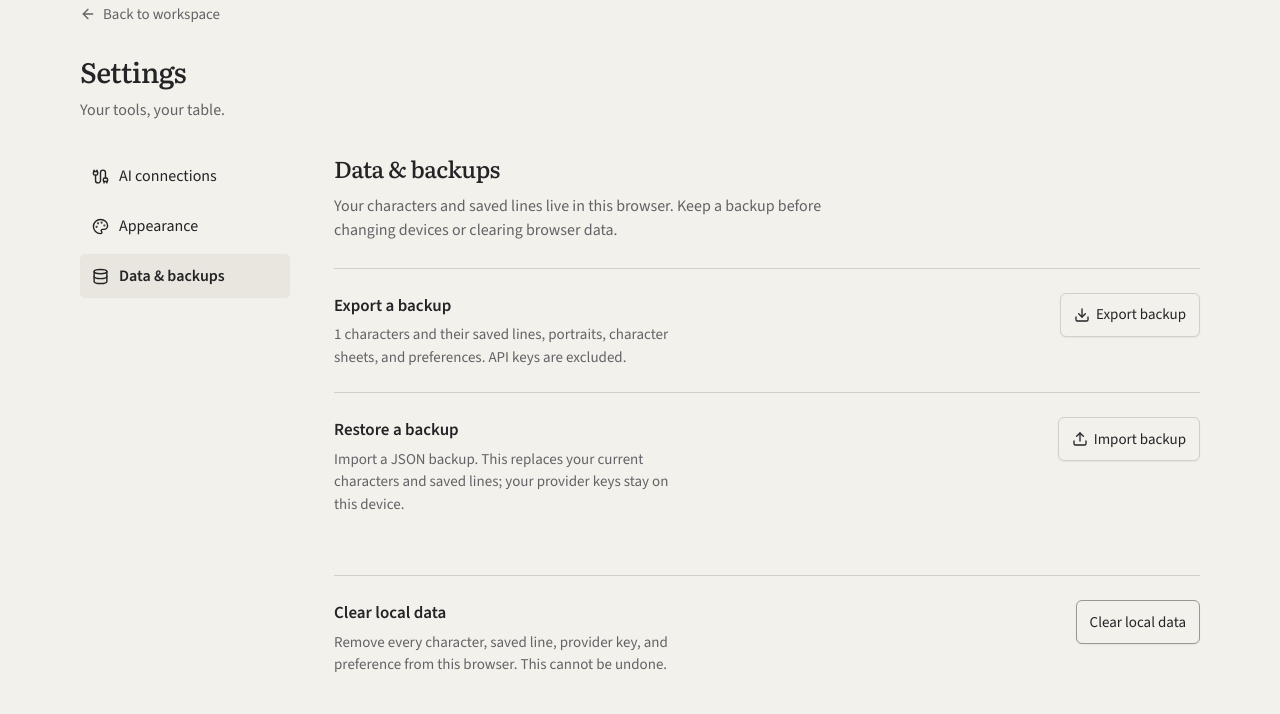
Test: confirms clearing all data and handles a failed clear
Step 1. Click the button "Clear local data" → (1138, 622), box [1076,600,1200,644]
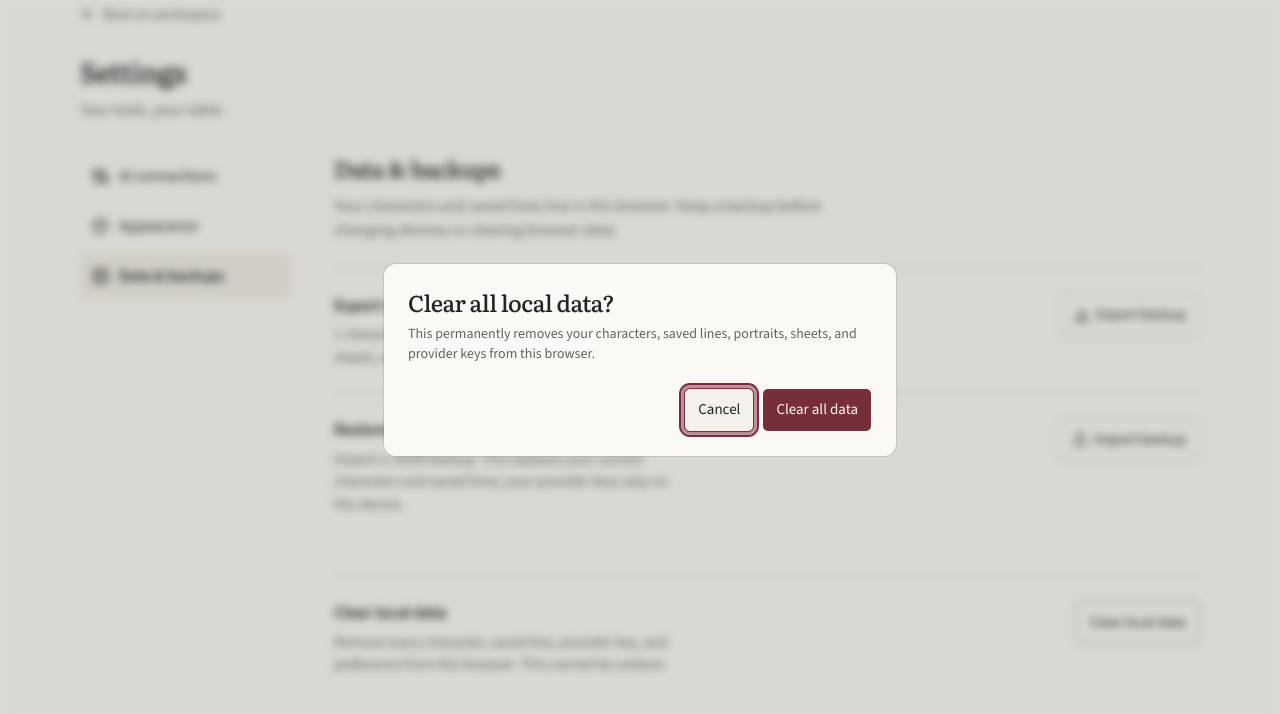
Step 2. Click the button "Clear all data" → (817, 410), box [762,388,872,432]
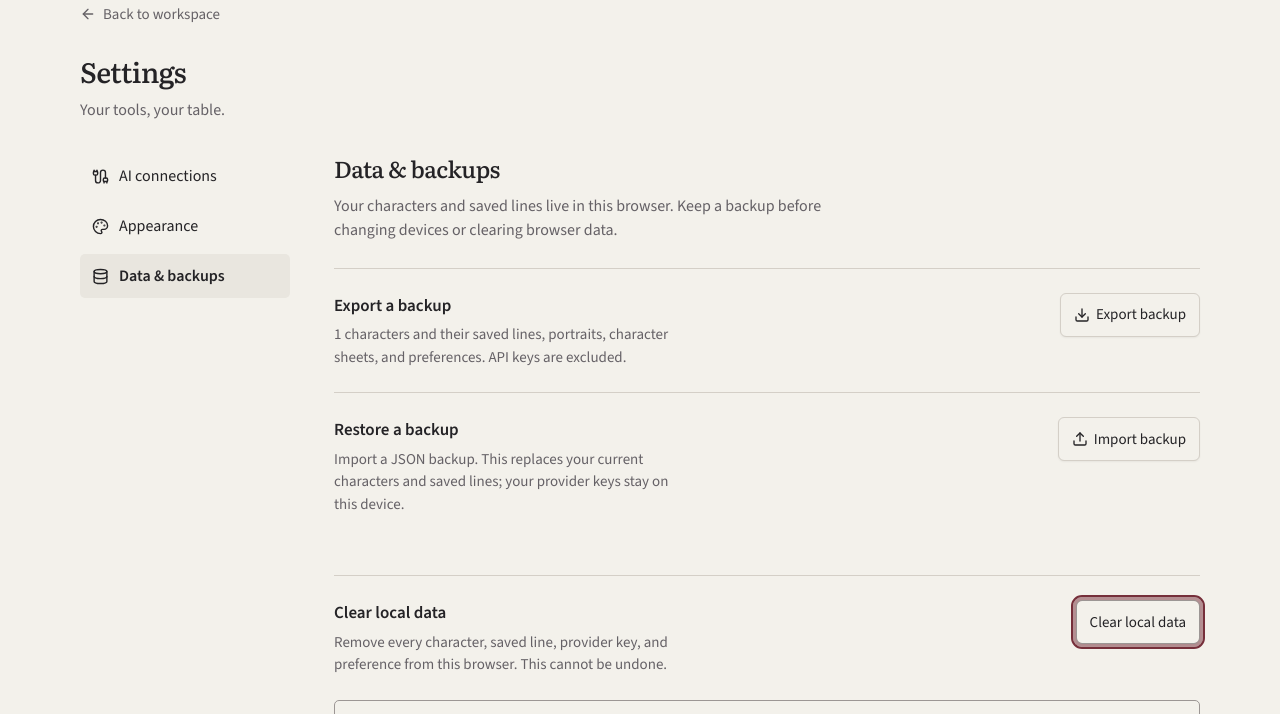
Step 3. Click the button "Clear local data" → (1138, 622), box [1076,600,1200,644]
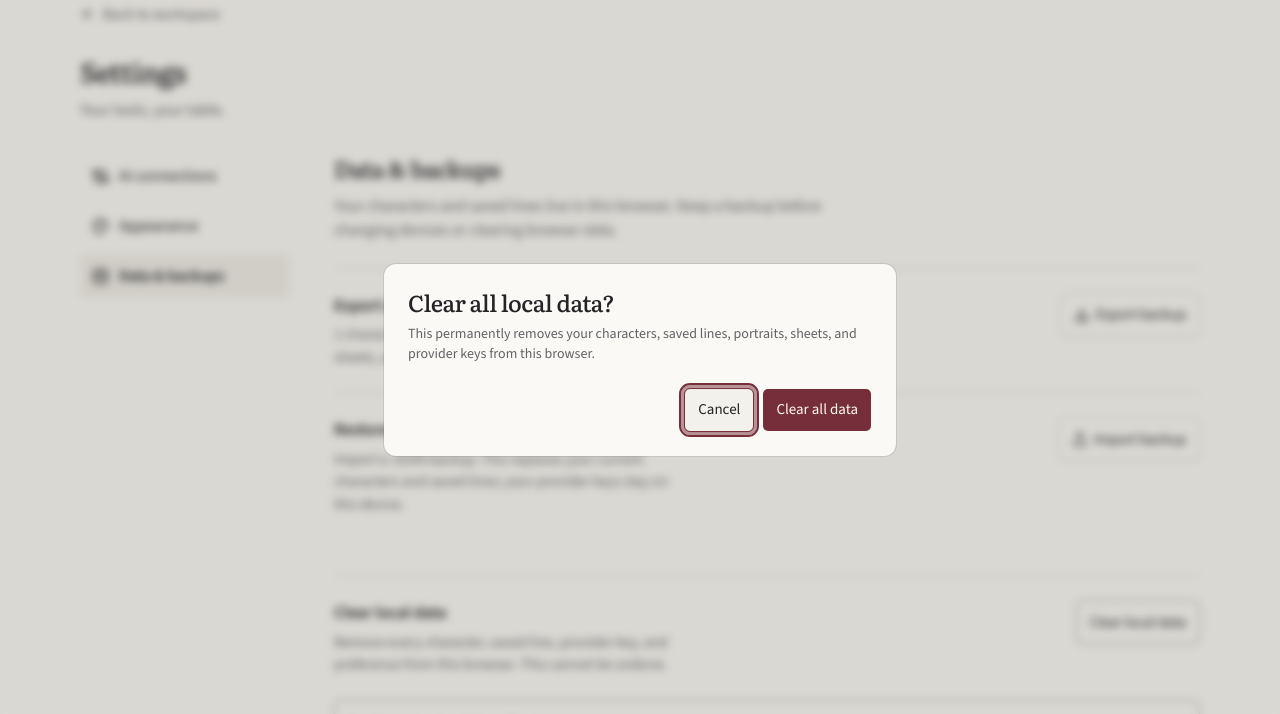
Step 4. Click the button "Clear all data" → (817, 410), box [762,388,872,432]
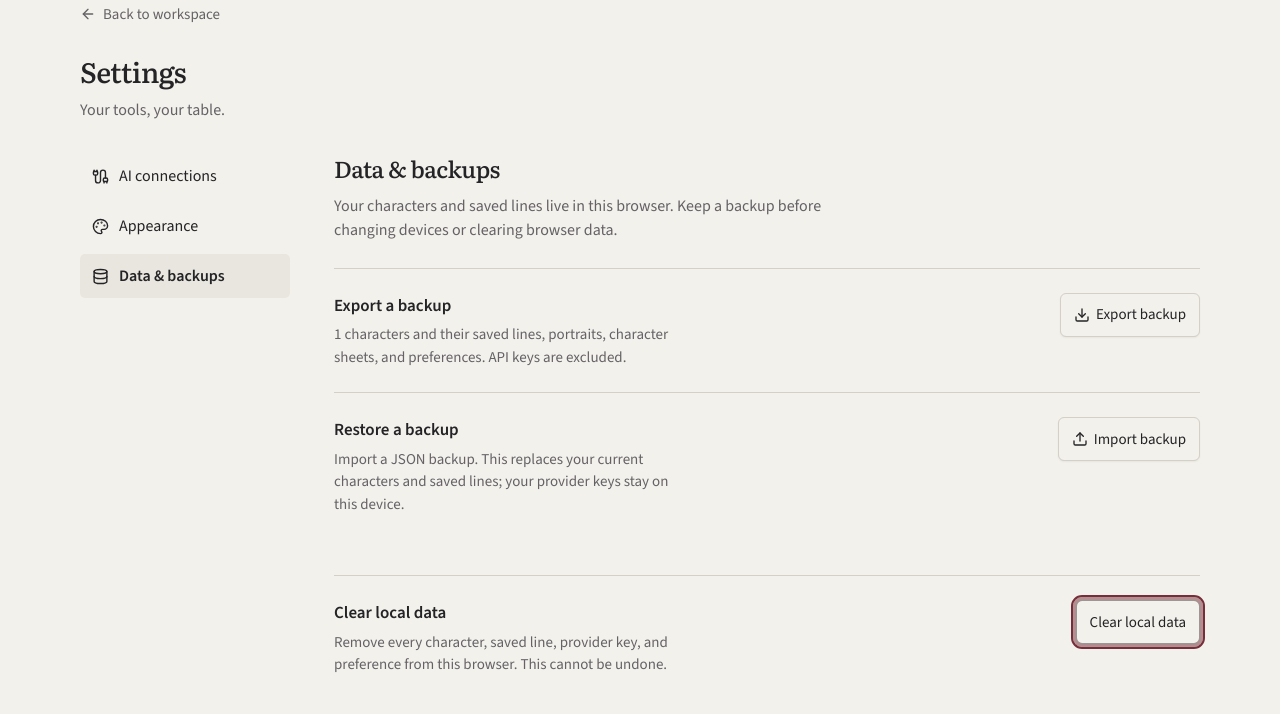
Now the dialog is gone
